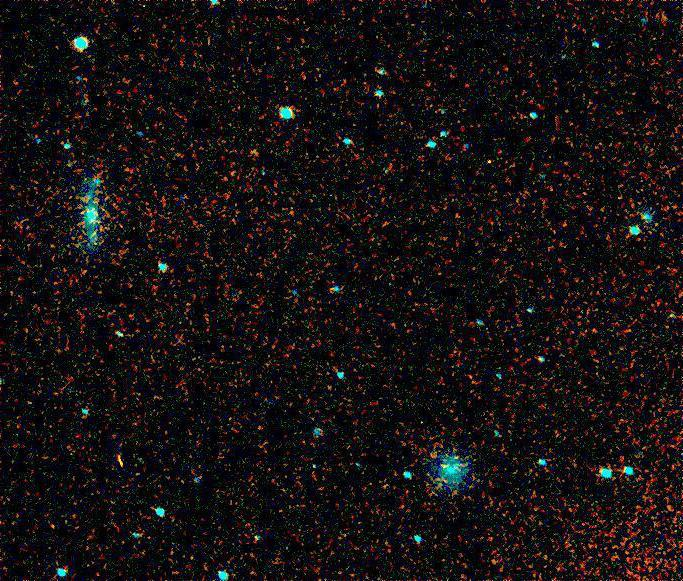star: (67, 195, 97, 225)
